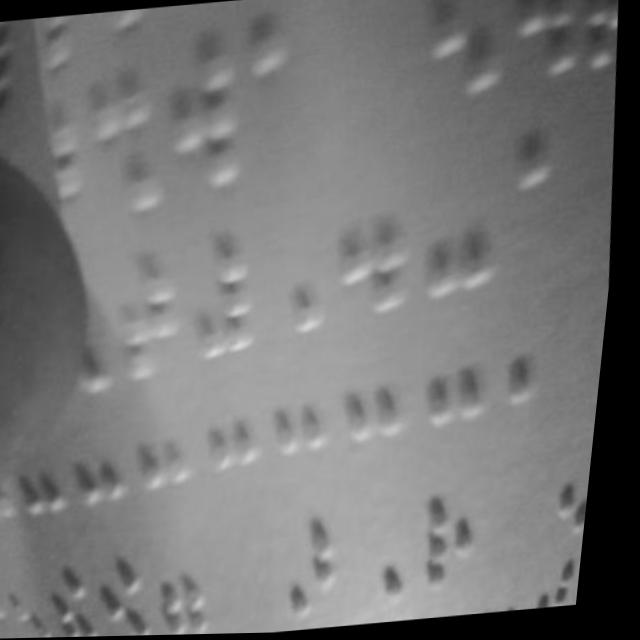braiile: (77, 63, 175, 225), (158, 50, 257, 202), (416, 160, 514, 311), (330, 178, 425, 325), (181, 220, 274, 367), (108, 247, 198, 390), (255, 210, 339, 349), (416, 0, 510, 108), (417, 488, 497, 611), (289, 510, 366, 633), (499, 0, 589, 93), (360, 497, 427, 613), (163, 538, 228, 636), (113, 546, 173, 637), (61, 551, 123, 638), (555, 438, 603, 544)
